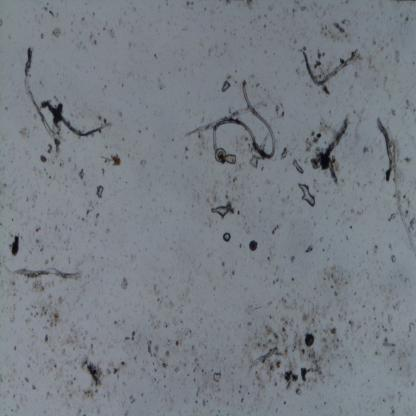Air bubble: (298, 182, 317, 209), (210, 206, 228, 217), (250, 153, 261, 168), (293, 160, 304, 175), (221, 80, 231, 93), (96, 184, 104, 200), (222, 232, 232, 242)
Background material: (250, 322, 290, 383), (290, 328, 328, 385), (22, 294, 63, 330), (57, 321, 95, 358), (160, 340, 190, 378), (322, 264, 352, 300), (367, 303, 396, 337), (283, 365, 312, 398), (319, 18, 354, 44), (299, 301, 329, 327), (81, 357, 104, 388), (56, 368, 76, 401), (339, 312, 363, 336), (145, 310, 173, 330), (277, 286, 297, 313), (306, 147, 327, 171), (287, 0, 312, 18), (377, 72, 392, 101), (204, 180, 222, 204), (388, 266, 409, 286), (368, 34, 390, 53), (352, 110, 363, 146), (149, 281, 166, 303), (305, 131, 322, 152), (100, 152, 122, 168), (173, 326, 194, 342), (95, 386, 113, 401), (225, 200, 240, 218), (193, 357, 207, 376), (32, 279, 51, 293), (9, 234, 21, 256), (250, 69, 262, 90), (312, 51, 325, 70), (270, 270, 283, 288), (245, 305, 268, 315), (279, 312, 294, 327), (401, 93, 413, 111), (53, 140, 63, 161), (381, 335, 396, 349), (80, 387, 95, 401), (198, 135, 207, 158), (276, 99, 286, 119), (330, 327, 338, 352), (45, 356, 59, 370), (345, 353, 355, 372), (74, 40, 89, 52), (103, 23, 115, 38), (114, 360, 126, 375), (288, 31, 297, 50), (85, 200, 97, 214), (114, 108, 126, 122), (392, 390, 404, 404), (43, 166, 54, 181), (157, 72, 166, 90), (150, 356, 159, 374), (23, 356, 33, 372), (266, 247, 276, 263), (146, 338, 154, 358), (41, 388, 52, 402), (370, 241, 380, 256), (30, 163, 42, 175), (129, 390, 137, 408), (43, 6, 55, 18), (124, 330, 136, 342), (402, 152, 414, 164), (370, 52, 377, 72), (51, 24, 61, 38), (120, 276, 130, 290), (280, 147, 289, 162), (213, 369, 222, 384), (387, 348, 399, 359), (303, 242, 314, 254), (52, 223, 62, 236), (401, 13, 411, 26), (394, 50, 402, 66), (305, 332, 314, 346), (151, 340, 158, 358), (271, 223, 280, 237), (165, 298, 175, 310), (89, 32, 97, 47), (139, 156, 148, 169), (224, 170, 231, 186), (322, 84, 332, 95), (387, 106, 398, 116), (182, 144, 188, 162), (362, 143, 371, 155), (293, 64, 300, 79), (373, 348, 383, 358), (199, 395, 208, 406), (98, 112, 106, 124), (45, 142, 53, 154), (408, 322, 416, 334), (288, 273, 296, 285), (246, 0, 255, 10), (112, 320, 121, 330), (0, 368, 5, 386), (74, 407, 84, 416), (186, 1, 194, 12), (228, 266, 236, 277), (389, 404, 396, 416), (44, 333, 51, 345), (207, 44, 213, 58), (193, 384, 200, 396), (32, 226, 42, 234), (66, 156, 74, 166), (123, 405, 130, 416), (390, 254, 398, 263), (219, 256, 225, 268), (36, 236, 43, 246), (29, 382, 36, 392), (94, 211, 99, 225), (117, 18, 124, 28), (24, 374, 30, 385), (78, 169, 84, 180), (411, 218, 416, 231), (58, 160, 66, 168), (289, 254, 296, 263), (128, 41, 135, 50), (356, 207, 363, 216), (355, 179, 362, 188), (344, 232, 350, 242), (1, 180, 7, 190), (40, 154, 46, 164), (170, 134, 176, 144), (233, 177, 238, 189), (152, 50, 158, 60), (259, 164, 266, 172), (9, 278, 16, 286), (388, 214, 395, 222), (10, 314, 16, 323), (226, 72, 232, 81), (100, 166, 105, 176), (133, 353, 138, 363), (43, 258, 50, 265), (398, 364, 404, 372), (256, 12, 262, 20), (79, 214, 85, 222), (282, 399, 288, 407), (95, 405, 101, 413), (122, 318, 127, 327), (0, 15, 4, 26), (48, 256, 54, 263), (240, 397, 246, 404), (225, 0, 233, 5), (80, 16, 86, 22), (194, 396, 198, 405), (154, 378, 159, 385), (262, 22, 267, 29), (257, 196, 261, 204), (238, 242, 242, 250), (140, 388, 144, 396), (225, 192, 229, 200), (226, 398, 230, 406), (240, 386, 244, 394), (13, 343, 17, 351), (234, 67, 238, 74), (133, 8, 137, 15), (12, 392, 15, 401), (102, 83, 107, 88), (71, 28, 75, 34), (41, 247, 45, 253), (11, 216, 15, 222), (245, 343, 249, 349), (269, 314, 273, 320), (348, 223, 352, 229), (264, 12, 268, 18), (104, 143, 108, 149), (92, 10, 96, 16), (230, 372, 235, 376), (194, 377, 198, 382), (10, 408, 14, 413), (12, 291, 16, 296), (137, 129, 143, 132), (121, 82, 124, 88), (41, 34, 45, 38), (0, 220, 2, 226), (1, 206, 4, 210), (217, 410, 220, 413), (390, 368, 392, 370)
Cellulose filter fibre: (375, 115, 416, 259), (186, 100, 265, 138), (25, 45, 56, 140), (301, 46, 358, 91), (43, 102, 110, 139), (324, 115, 349, 186), (10, 264, 81, 281)
Diatom: (249, 239, 258, 252)
Microfibre: (212, 79, 275, 167)
